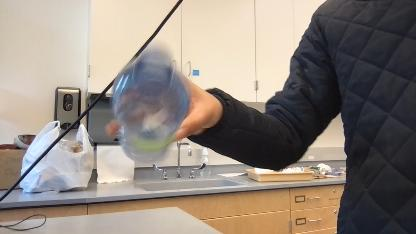Plastic Bottle: (98, 51, 198, 179)
